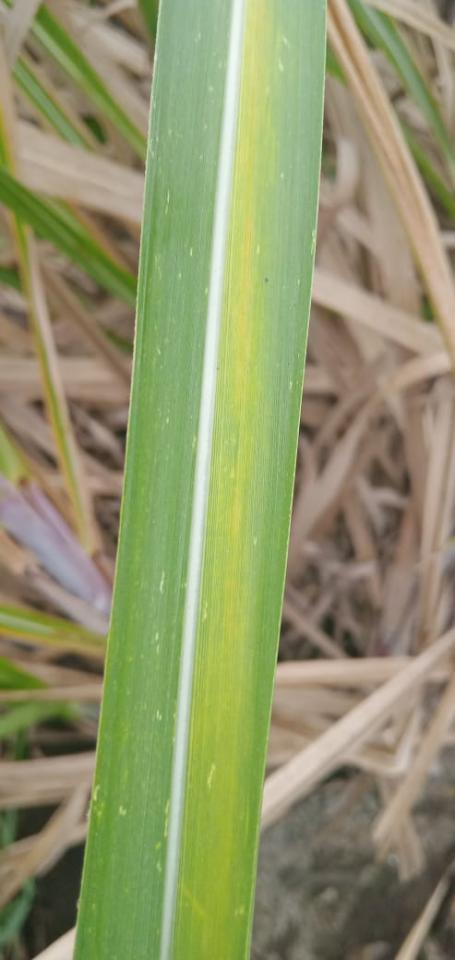Yellow: (177, 0, 272, 959)
